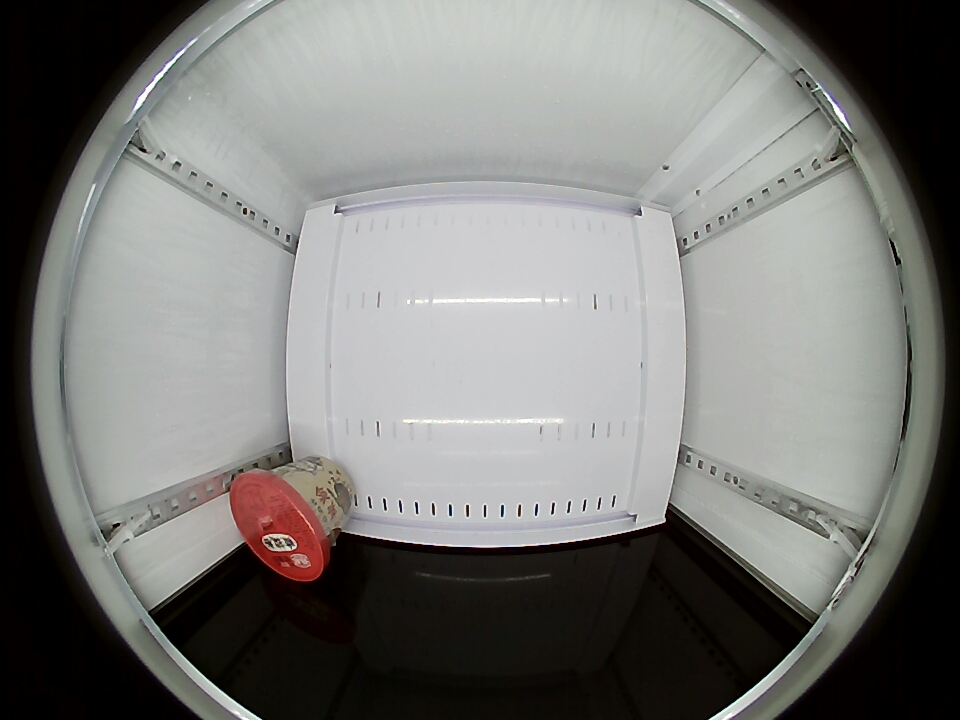suanlafen: (230, 468, 338, 582)
